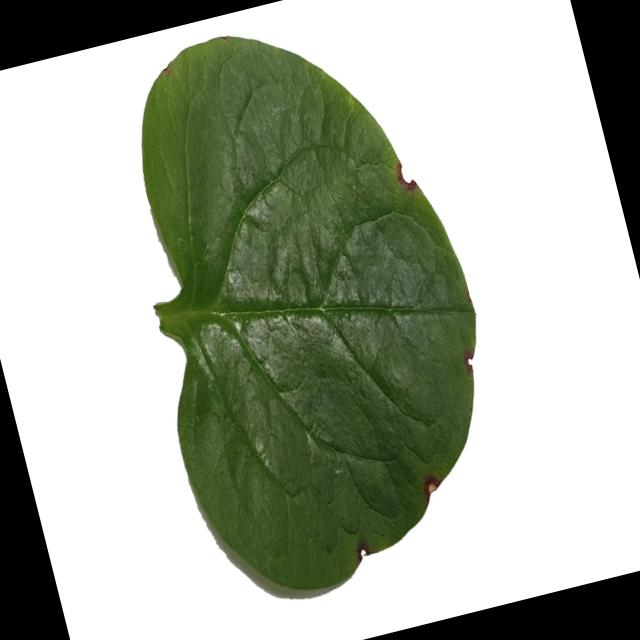Medicinal-Basale: (82, 0, 533, 622)
